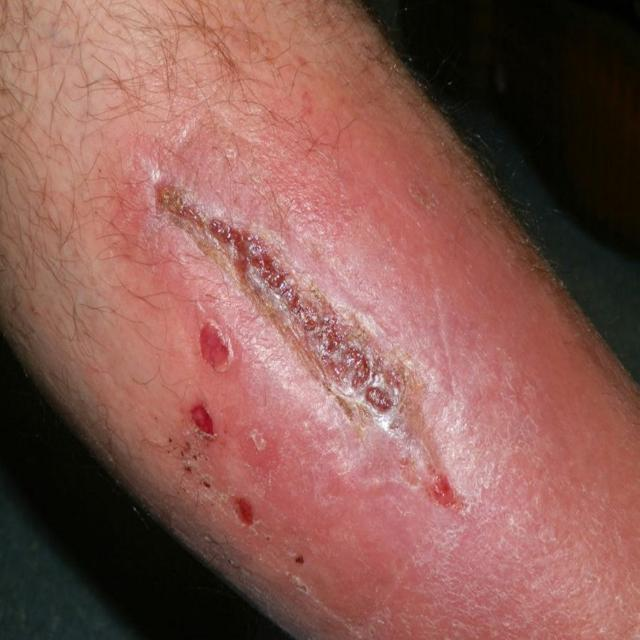wound: (153, 179, 467, 515)
